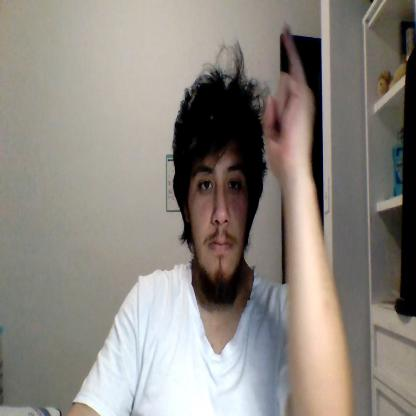I: (263, 26, 314, 174)
